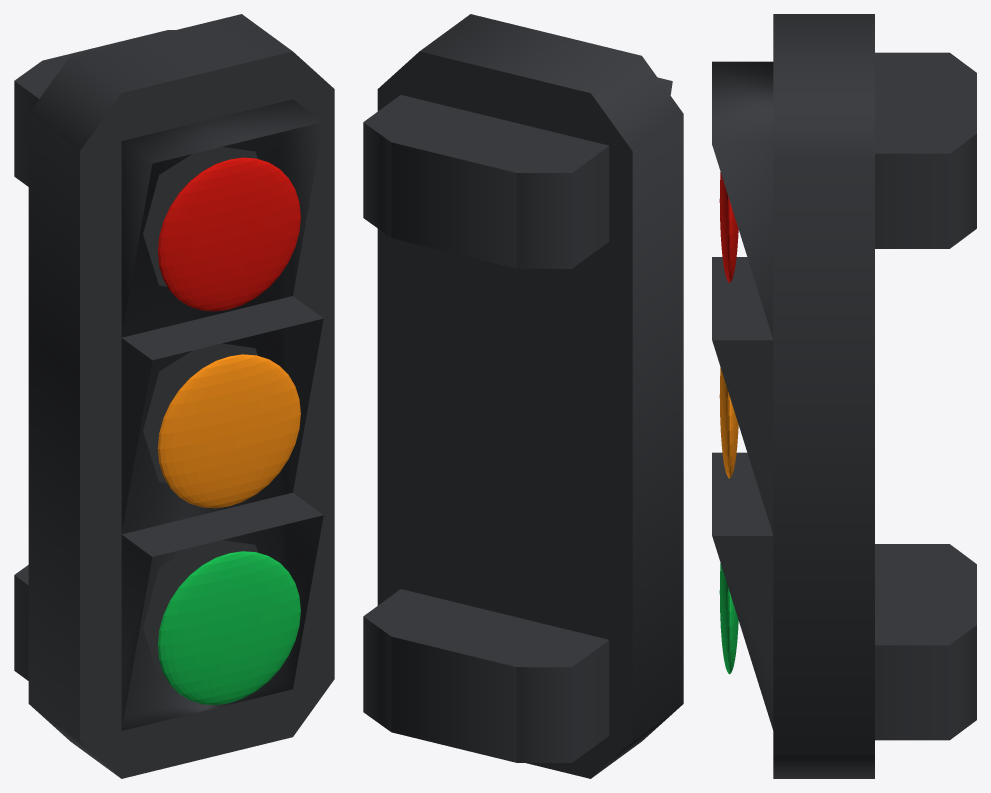
Rendered from prop-signal.glb.
The picture shows the model from 3 angles, left to right: view 1: azimuth 30°, elevation 25°; view 2: azimuth 150°, elevation 25°; view 3: azimuth 270°, elevation 25°; orthographic projection.
Parts seen in each view (by area): view 1: SignalHousing, amber, red, green; view 2: SignalHousing; view 3: SignalHousing, green, amber, red.
Boxes of the visible parts, left/top/right/bottom form: SignalHousing: left=14, top=14, right=334, bottom=778; amber: left=157, top=354, right=300, bottom=508; red: left=157, top=157, right=300, bottom=311; green: left=157, top=551, right=300, bottom=704; SignalHousing: left=363, top=14, right=683, bottom=778; SignalHousing: left=712, top=14, right=976, bottom=778; green: left=719, top=563, right=738, bottom=674; amber: left=719, top=367, right=738, bottom=478; red: left=719, top=172, right=738, bottom=282.
Bounding box in the file's own units: 0.42 × 1.08 × 0.38.
